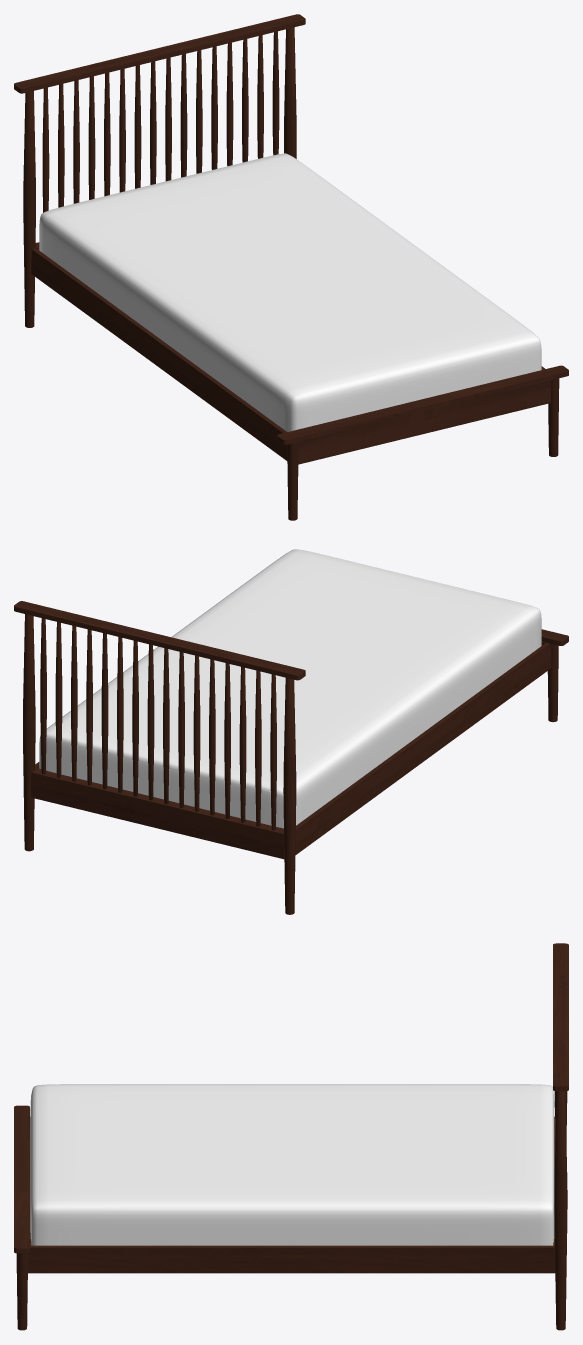
File: bed_10_04.fbx
The picture shows the model from 3 angles, top to bottom: view 1: azimuth 30°, elevation 25°; view 2: azimuth 150°, elevation 25°; view 3: azimuth 270°, elevation 25°; orthographic projection. The views are drawn at different scales.
Visible parts, largest first — view 1: bed_10_04.001; view 2: bed_10_04.001; view 3: bed_10_04.001.
Part boxes in pixels (left/top/right/bottom): bed_10_04.001: left=14, top=14, right=568, bottom=520; bed_10_04.001: left=14, top=549, right=568, bottom=914; bed_10_04.001: left=14, top=943, right=568, bottom=1330.
Size of the model in its own units: 129 by 105 by 212.
Materials: 1 (1 with a texture image).
